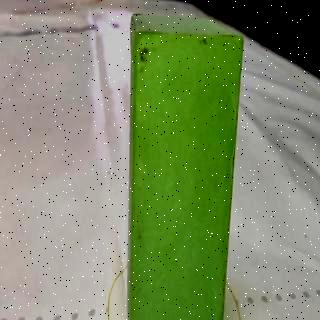greenbox: (128, 12, 244, 320)
